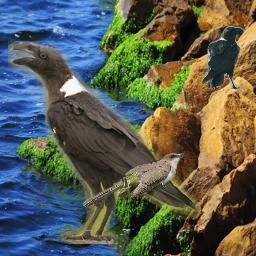Crow: (8, 41, 199, 244), (201, 26, 245, 89)
Cuckoo: (82, 152, 185, 207)
